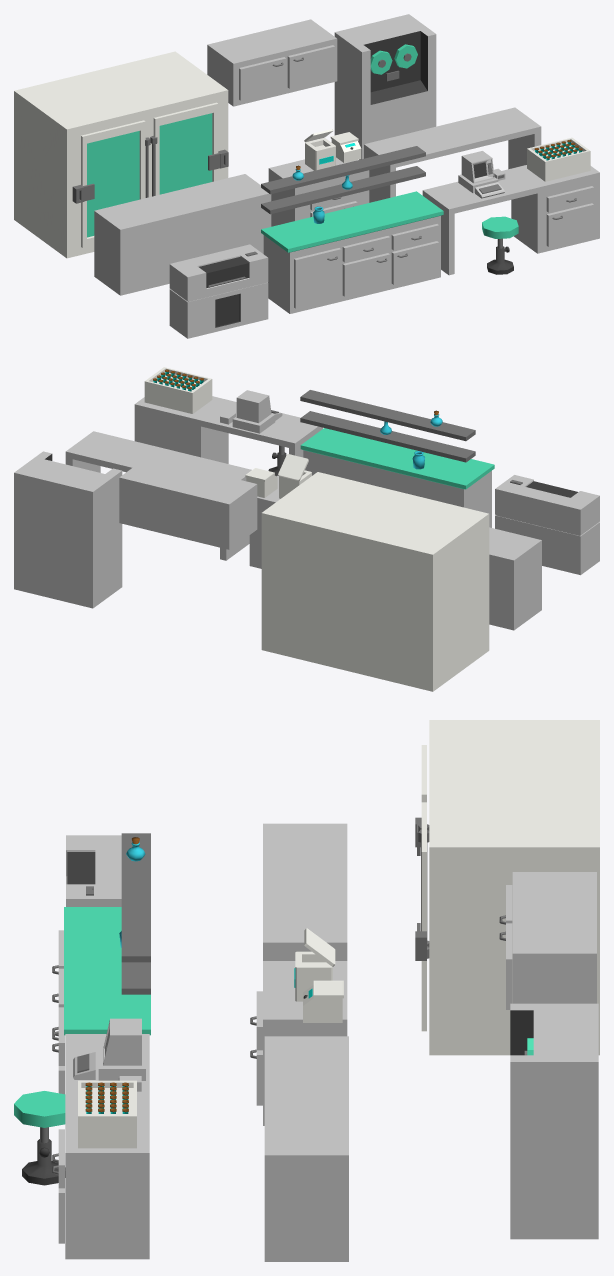
The model's file is Props.fbx.
3 views of the same model, one above another, from view 1: azimuth 30°, elevation 25°; view 2: azimuth 150°, elevation 25°; view 3: azimuth 270°, elevation 25° (orthographic). The views are drawn at different scales.
Parts seen in each view (by area): view 1: frezzer, balcony_center, balcony_base, record, balcony_seat, air_balcony, balcony_printer, balcony_table, balcony_bidet, box_samples, computer, chair (+3 smaller); view 2: frezzer, record, balcony_center, air_balcony, balcony_printer, balcony_seat, balcony_base, balcony_table, box_samples, computer, mix_samples_2, balcony_bidet (+2 smaller); view 3: frezzer, record, balcony_table, balcony_center, balcony_seat, air_balcony, balcony_base, balcony_bidet, balcony_printer, box_samples, computer, chair (+3 smaller).
Boxes of the visible parts, x1,y1,x2,y2 form: frezzer: (14, 51, 228, 258); balcony_center: (261, 146, 443, 313); balcony_base: (94, 174, 271, 295); record: (334, 14, 436, 159); balcony_seat: (422, 165, 599, 275); air_balcony: (207, 19, 337, 106); balcony_printer: (169, 244, 268, 338); balcony_table: (364, 107, 541, 202); balcony_bidet: (268, 157, 369, 226); box_samples: (527, 137, 590, 181); computer: (458, 151, 505, 198); chair: (482, 216, 518, 274); frezzer: (261, 472, 489, 691); record: (14, 451, 122, 608); balcony_center: (300, 390, 494, 527); air_balcony: (119, 457, 257, 549); balcony_printer: (495, 475, 599, 575); balcony_seat: (134, 396, 322, 463); balcony_base: (489, 527, 541, 630); balcony_table: (65, 431, 251, 560); box_samples: (144, 367, 212, 413); computer: (220, 390, 282, 433); mix_samples_2: (278, 454, 311, 498); balcony_bidet: (249, 475, 279, 568); frezzer: (415, 720, 599, 1055); record: (510, 1003, 598, 1239); balcony_table: (264, 1036, 348, 1261); balcony_center: (52, 833, 150, 1094); balcony_seat: (52, 1034, 149, 1259); air_balcony: (499, 872, 596, 1009); balcony_base: (263, 823, 347, 960); balcony_bidet: (250, 961, 347, 1125); balcony_printer: (66, 835, 121, 906); box_samples: (78, 1080, 136, 1148); computer: (73, 1018, 145, 1091); chair: (14, 1091, 65, 1185).
Size of the model in its own units: 1868 by 544 by 1387.
